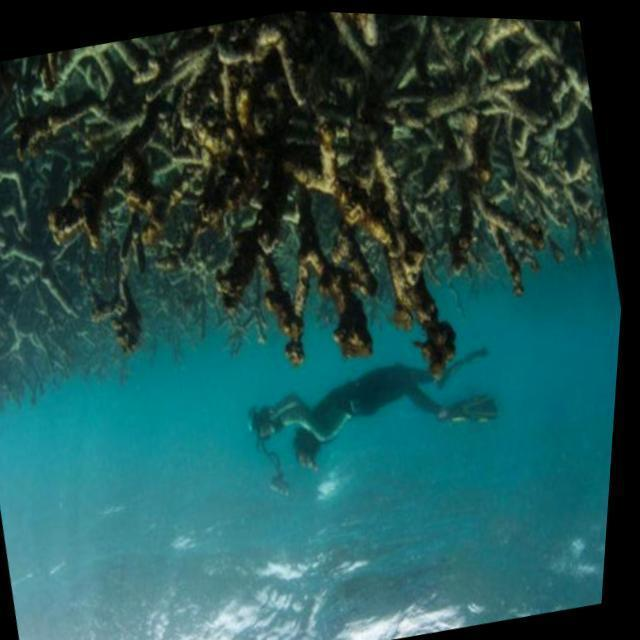Dead Coral: (0, 0, 633, 345)
